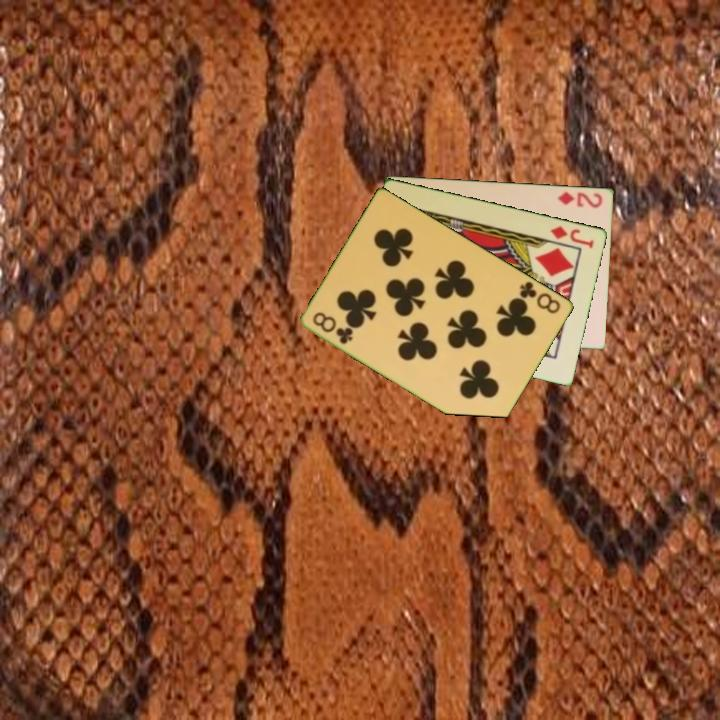2d: (554, 188, 605, 210)
8c: (516, 278, 564, 317), (309, 308, 356, 347)
Jd: (548, 222, 597, 251)
